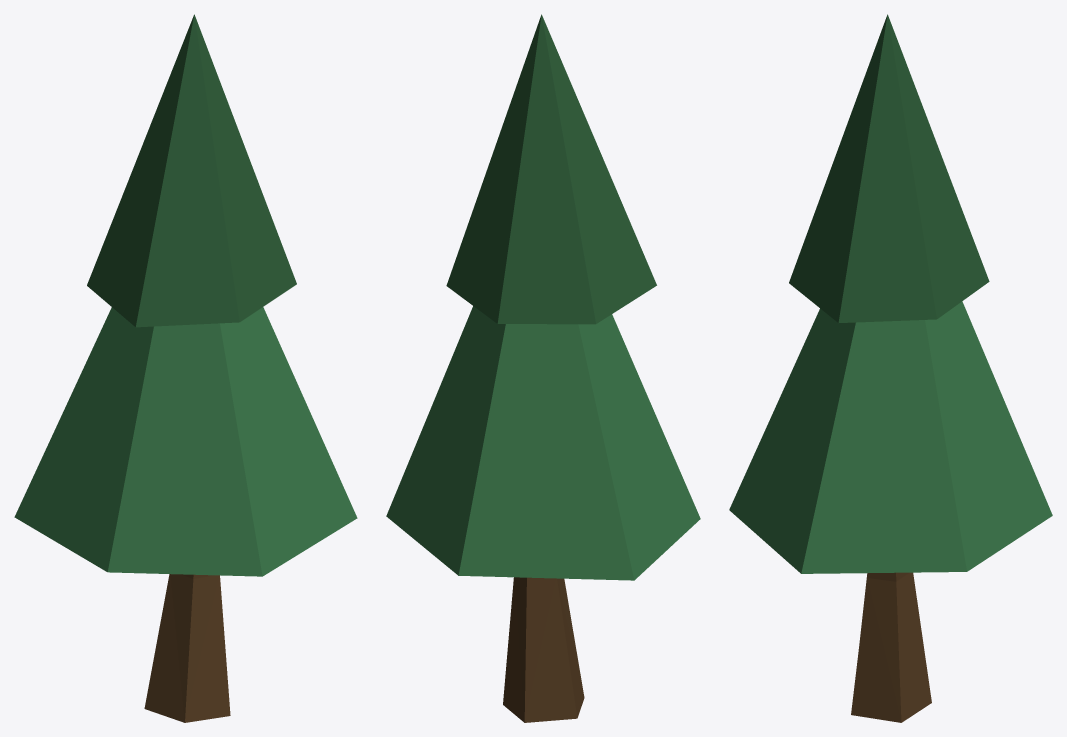
Rendered from HS_LP_Sapling_Pine_01.fbx.
3 views of the same model, side by side, from view 1: azimuth 30°, elevation 25°; view 2: azimuth 150°, elevation 25°; view 3: azimuth 270°, elevation 25° (orthographic).
Parts seen in each view (by area): view 1: HS_LP_Sapling_Pine_01; view 2: HS_LP_Sapling_Pine_01; view 3: HS_LP_Sapling_Pine_01.
Boxes of the visible parts, x1,y1,x2,y2 form: HS_LP_Sapling_Pine_01: [14, 14, 357, 722]; HS_LP_Sapling_Pine_01: [386, 14, 700, 722]; HS_LP_Sapling_Pine_01: [729, 14, 1052, 722].
Size of the model in its own units: 34.07 by 88.13 by 37.29.
